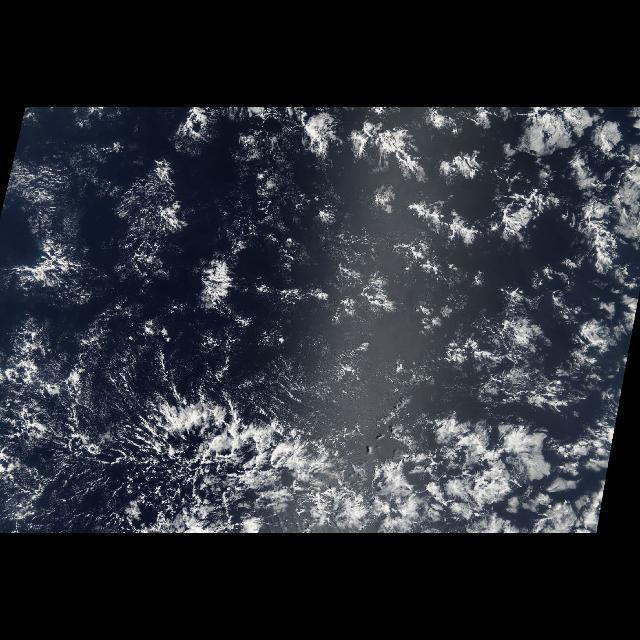Fish: (8, 321, 576, 533)
Flower: (12, 110, 640, 350), (372, 414, 620, 534)
Gravel: (262, 175, 592, 412)
